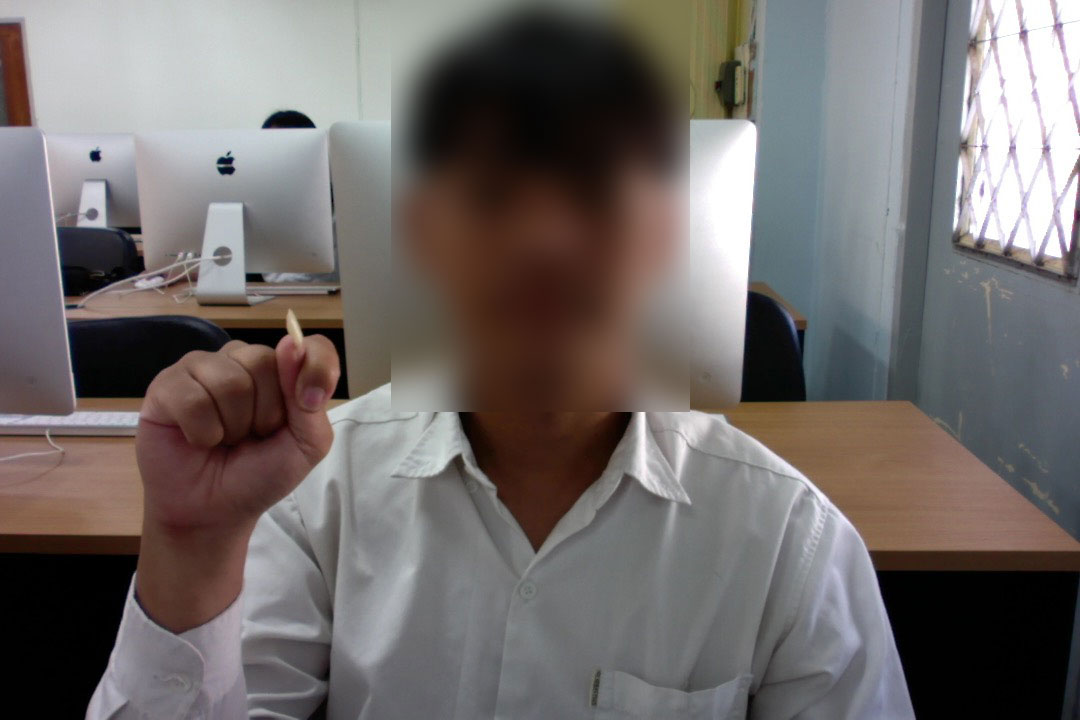tor: (125, 309, 343, 558)
